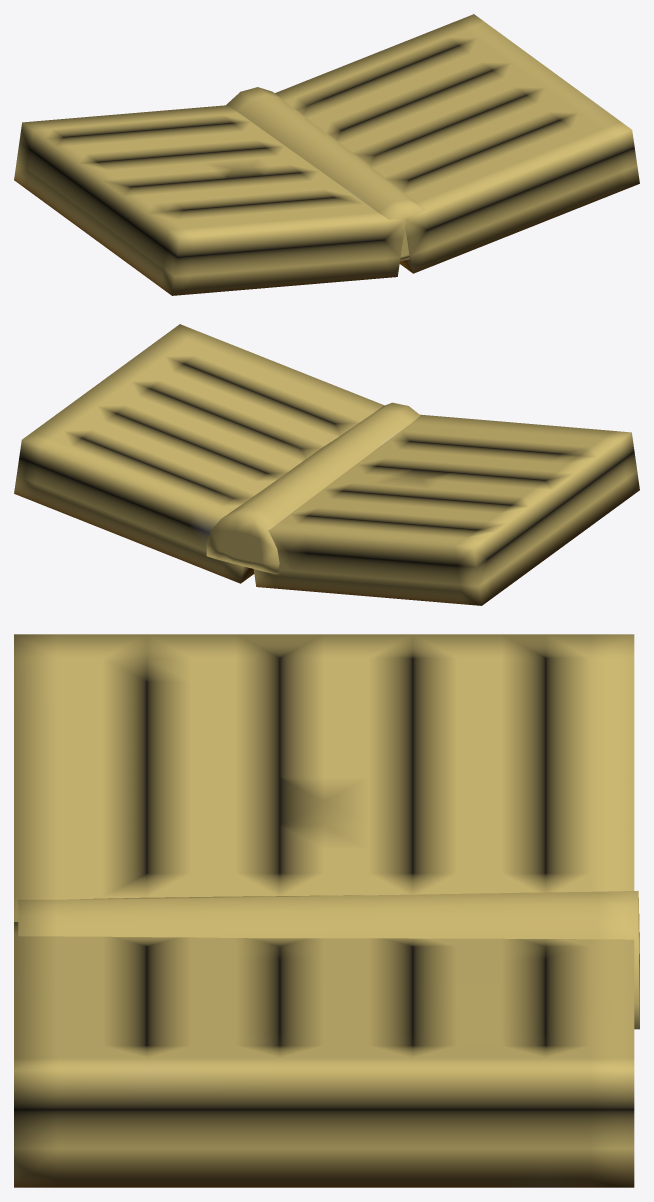
Rendered from Book.glb.
The picture shows the model from 3 angles, top to bottom: view 1: azimuth 30°, elevation 25°; view 2: azimuth 150°, elevation 25°; view 3: azimuth 270°, elevation 25°; orthographic projection. The views are drawn at different scales.
Visible parts, largest first — view 1: Book; view 2: Book; view 3: Book.
Boxes of the visible parts, left/top/right/bottom form: Book: left=14, top=14, right=639, bottom=295; Book: left=14, top=324, right=639, bottom=605; Book: left=14, top=634, right=639, bottom=1187.
Bounding box in the file's own units: 0.4579 × 0.0865 × 0.2705.
